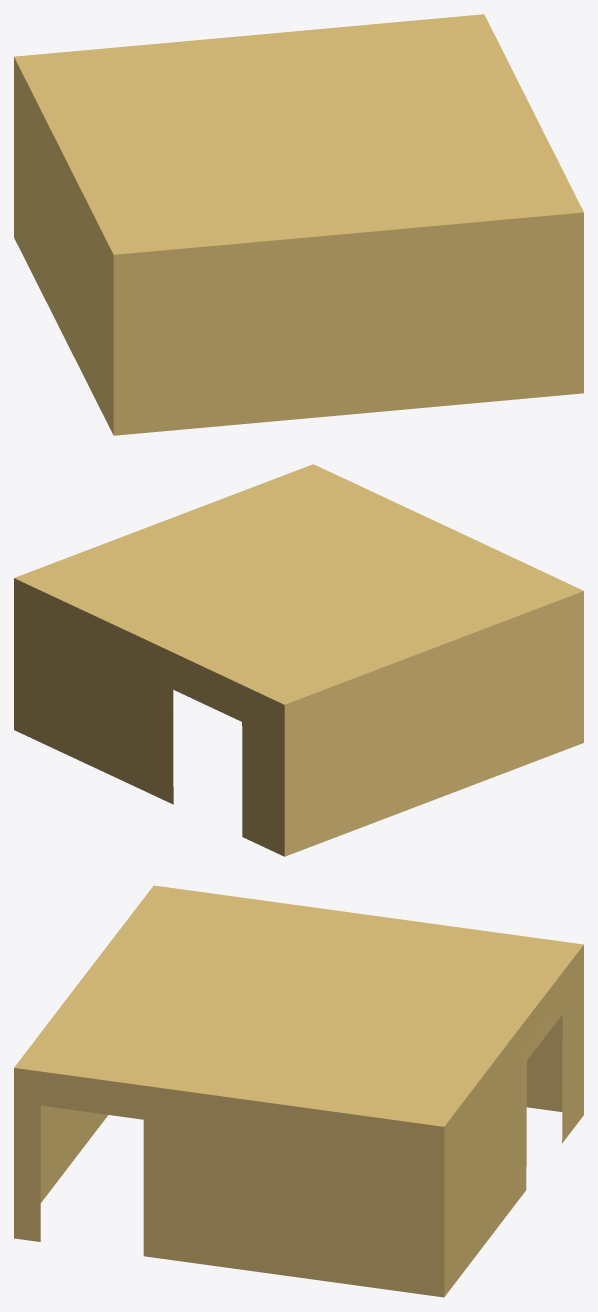
Rendered from Close_Lore_Wall.fbx.
3 renders of one model, top to bottom at view 1: azimuth 30°, elevation 25°; view 2: azimuth 150°, elevation 25°; view 3: azimuth 270°, elevation 25°, orthographic. The views are drawn at different scales.
Parts seen in each view (by area): view 1: Close_Lore_Wall_low; view 2: Close_Lore_Wall_low; view 3: Close_Lore_Wall_low.
Part boxes in pixels (<box>): Close_Lore_Wall_low: <box>14,14,583,435</box>; Close_Lore_Wall_low: <box>14,464,583,856</box>; Close_Lore_Wall_low: <box>14,885,583,1297</box>.
Bounding box in the file's own units: 1516 × 499 × 1512.
